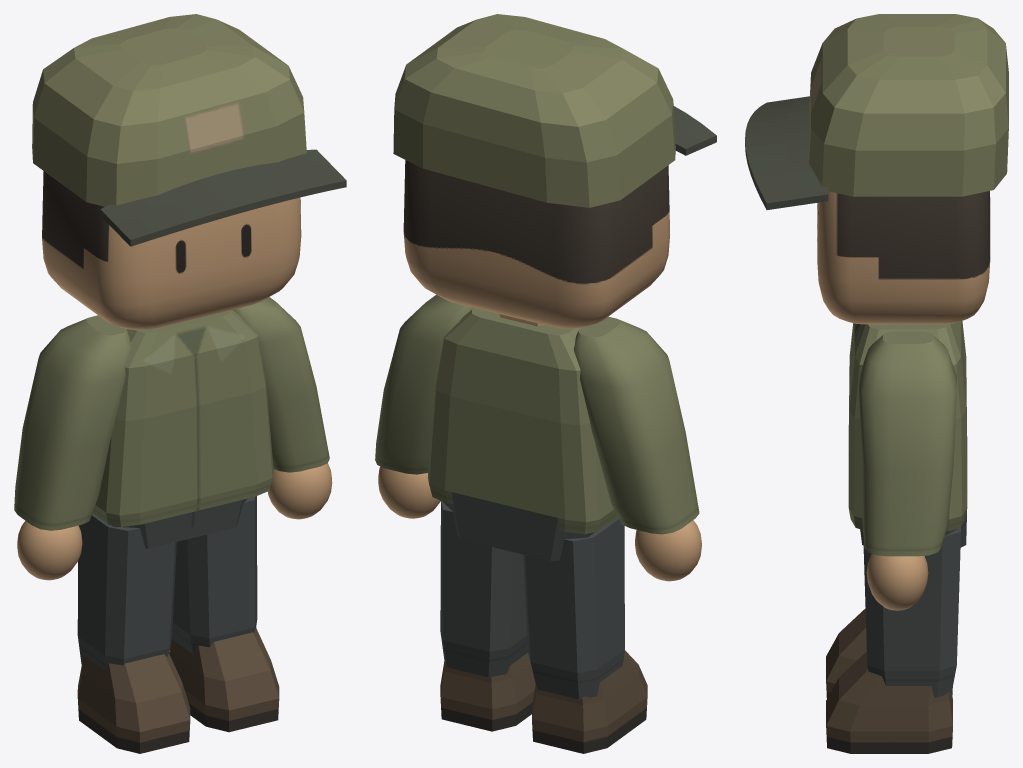
Rendered from SimpleHero_Stage1.fbx.
The picture shows the model from 3 angles, left to right: view 1: azimuth 30°, elevation 25°; view 2: azimuth 150°, elevation 25°; view 3: azimuth 270°, elevation 25°; orthographic projection. The views are drawn at different scales.
Visible parts, largest first — view 1: Study_Cap, Study_Torso, Study_Head, Study_Sleeve_-1, Study_Leg_-1, Study_CapBrim, Study_Leg_1, Study_Boot_-1, Study_Sleeve_1, Study_Boot_1, Study_Mitten_-1, Study_Mitten_1 (+1 smaller); view 2: Study_Cap, Study_Head, Study_Torso, Study_Sleeve_-1, Study_Leg_-1, Study_Leg_1, Study_Sleeve_1, Study_Boot_-1, Study_Boot_1, Study_Hips, Study_Mitten_-1, Study_Mitten_1 (+1 smaller); view 3: Study_Cap, Study_Head, Study_Sleeve_1, Study_Leg_1, Study_Boot_1, Study_CapBrim, Study_Torso, Study_Mitten_1, Study_Boot_-1.
Boxes of the visible parts, x1=… form: Study_Cap: x1=32, y1=14, x2=306, y2=206; Study_Torso: x1=93, y1=310, x2=273, y2=526; Study_Head: x1=42, y1=171, x2=301, y2=329; Study_Sleeve_-1: x1=14, y1=315, x2=131, y2=530; Study_Leg_-1: x1=77, y1=513, x2=176, y2=670; Study_CapBrim: x1=100, y1=149, x2=346, y2=246; Study_Leg_1: x1=172, y1=496, x2=257, y2=653; Study_Boot_-1: x1=77, y1=653, x2=190, y2=753; Study_Sleeve_1: x1=232, y1=297, x2=329, y2=472; Study_Boot_1: x1=169, y1=628, x2=279, y2=732; Study_Mitten_-1: x1=17, y1=521, x2=82, y2=580; Study_Mitten_1: x1=268, y1=463, x2=332, y2=519; Study_Cap: x1=393, y1=14, x2=675, y2=207; Study_Head: x1=403, y1=160, x2=669, y2=328; Study_Torso: x1=427, y1=308, x2=617, y2=534; Study_Sleeve_-1: x1=573, y1=316, x2=699, y2=534; Study_Leg_-1: x1=523, y1=517, x2=624, y2=699; Study_Leg_1: x1=440, y1=501, x2=527, y2=677; Study_Sleeve_1: x1=375, y1=294, x2=473, y2=474; Study_Boot_-1: x1=532, y1=650, x2=647, y2=753; Study_Boot_1: x1=440, y1=653, x2=535, y2=731; Study_Hips: x1=443, y1=492, x2=594, y2=561; Study_Mitten_-1: x1=635, y1=520, x2=701, y2=581; Study_Mitten_1: x1=378, y1=466, x2=440, y2=518; Study_Cap: x1=809, y1=14, x2=1008, y2=196; Study_Head: x1=817, y1=191, x2=990, y2=324; Study_Sleeve_1: x1=859, y1=331, x2=956, y2=556; Study_Leg_1: x1=863, y1=527, x2=960, y2=697; Study_Boot_1: x1=826, y1=651, x2=952, y2=753; Study_CapBrim: x1=745, y1=96, x2=828, y2=209; Study_Torso: x1=848, y1=321, x2=967, y2=531; Study_Mitten_1: x1=866, y1=553, x2=928, y2=610; Study_Boot_-1: x1=826, y1=608, x2=952, y2=698.
Size of the model in its own units: 87.4 by 178 by 63.35.
